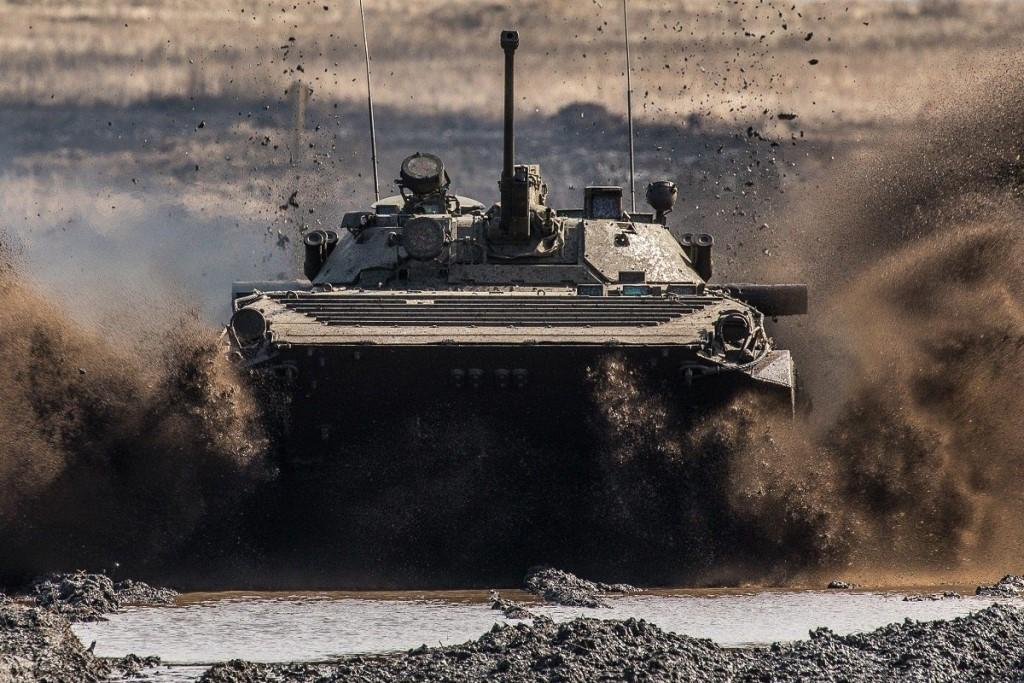tank: (232, 29, 809, 586)
